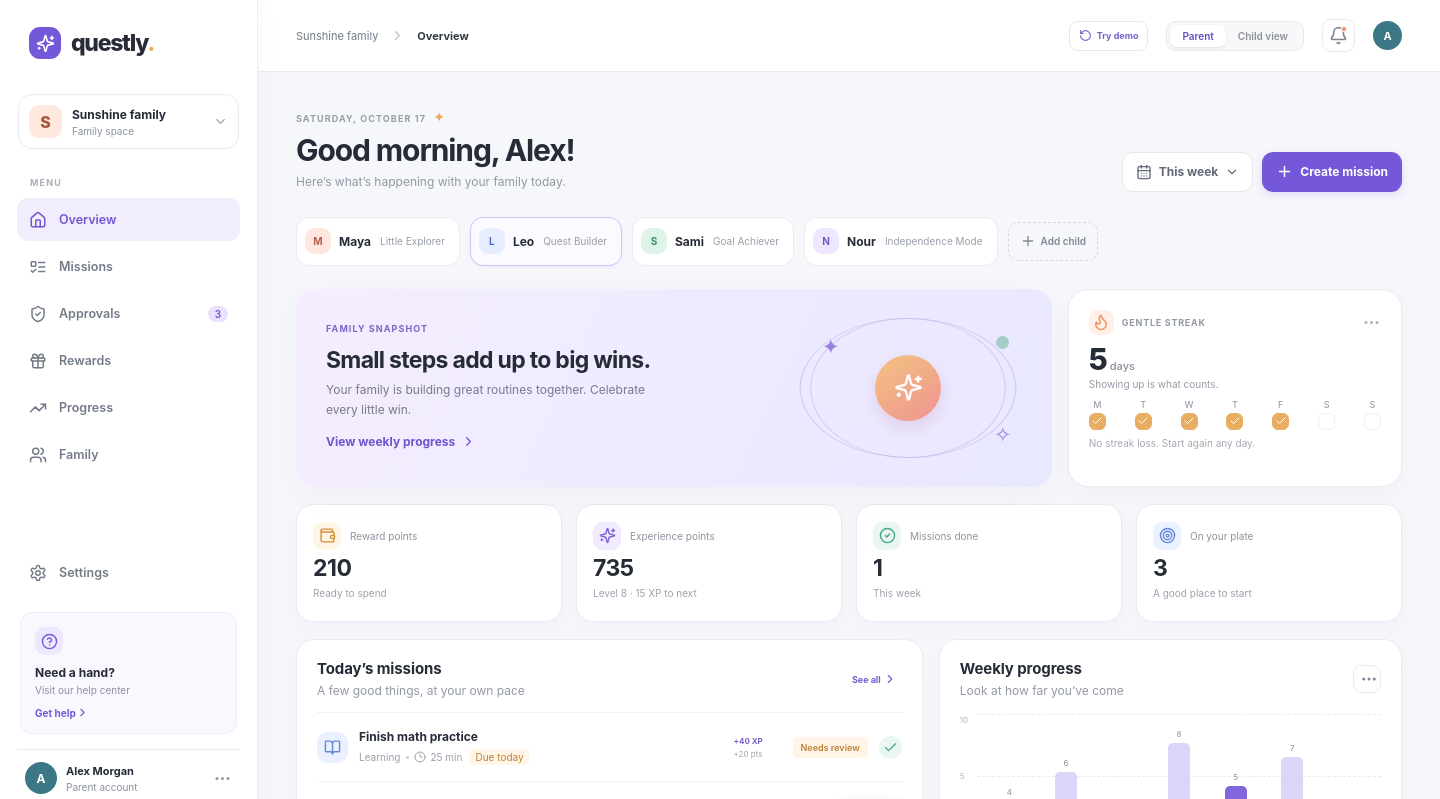
Test: Questly local demo › keeps points until a reward request is approved
This screenshot has width=1440, height=799.
Click the button with class "nav-item" showing "Rewards": (128, 360) x1=17 y1=339 x2=240 y2=382
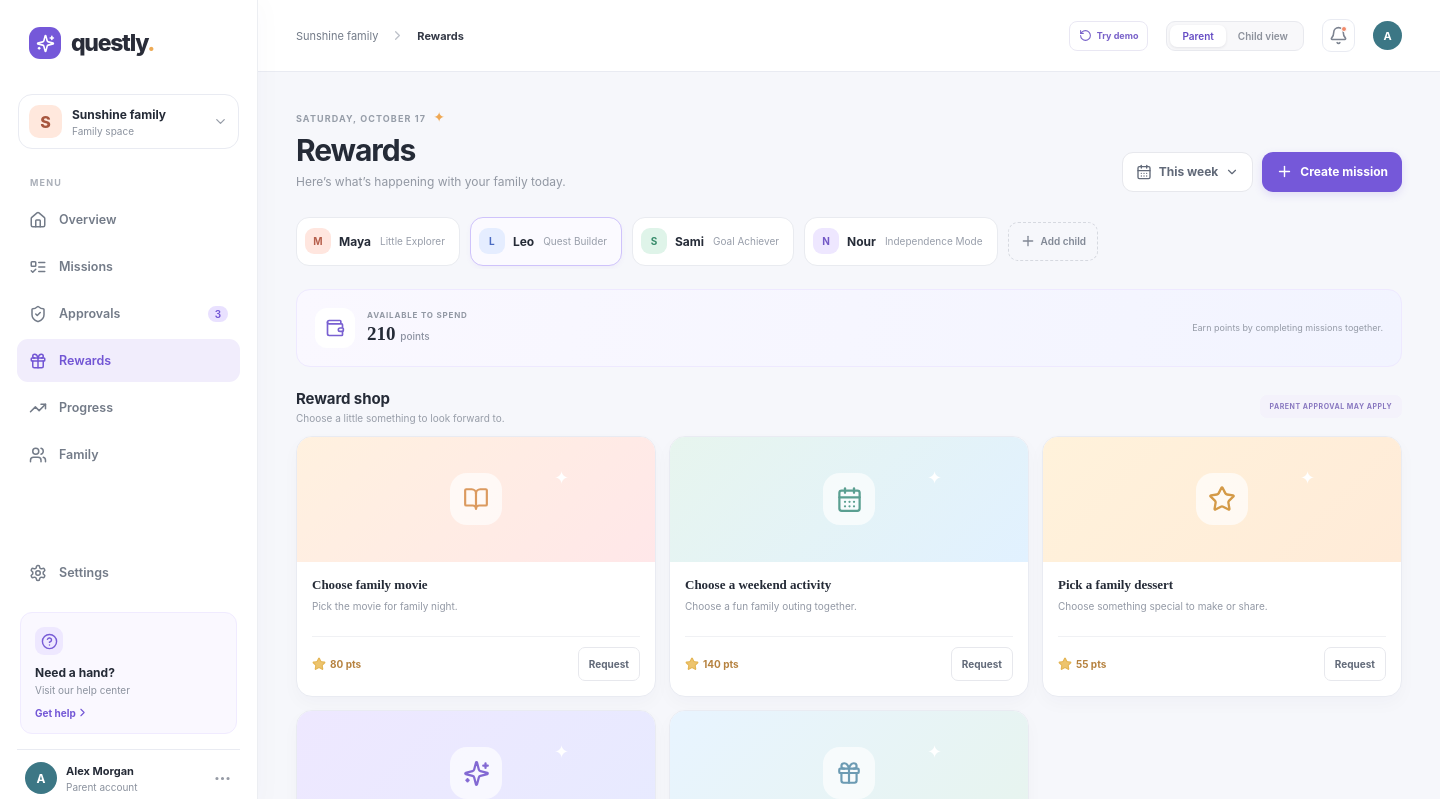
Click the button "Request" in the row of "80": (609, 664) x1=578 y1=647 x2=640 y2=681
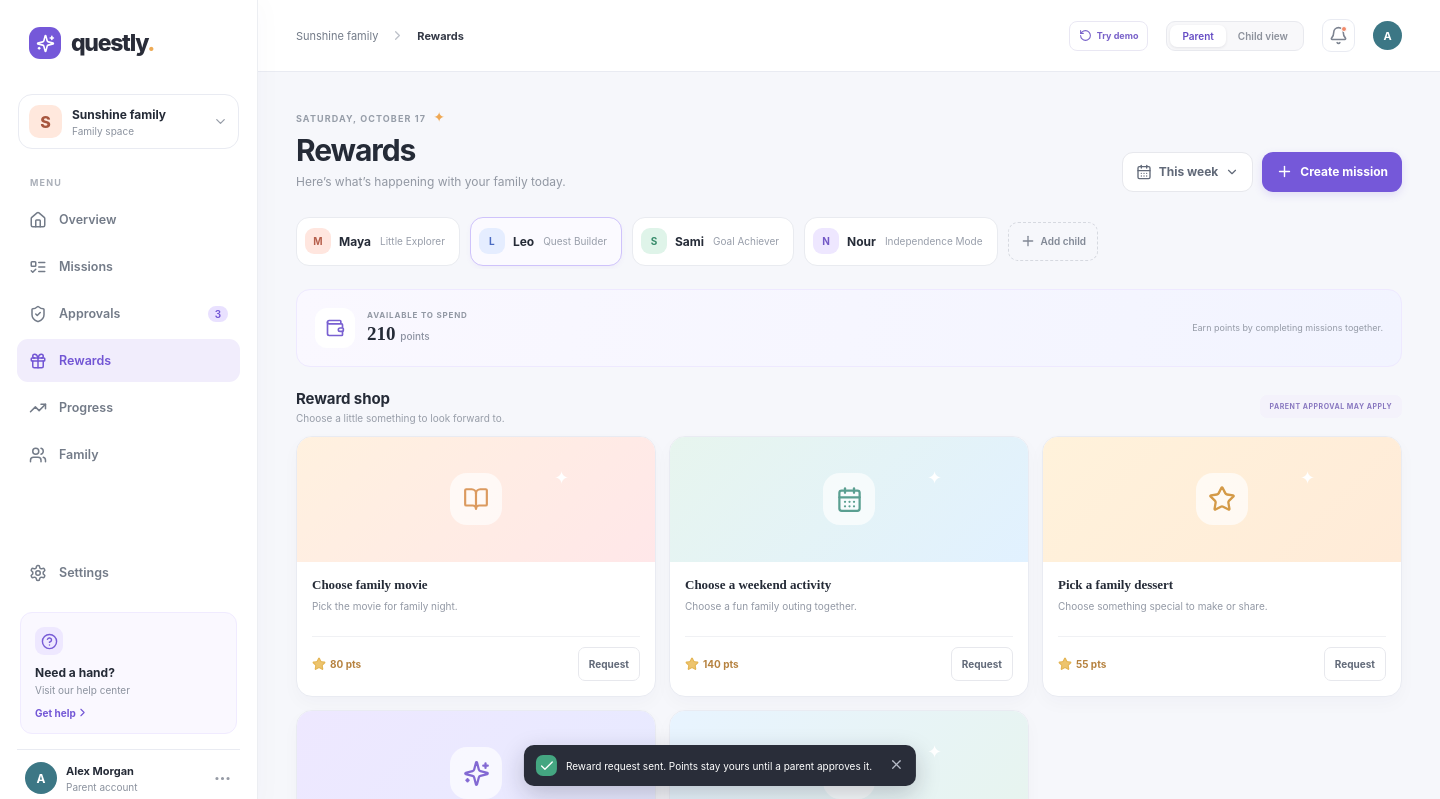
Expected: the text "210" is shown, x1=367 y1=323 x2=396 y2=344
Click the button with class "nav-item" showing "Approvals 3": (128, 314) x1=17 y1=292 x2=240 y2=335
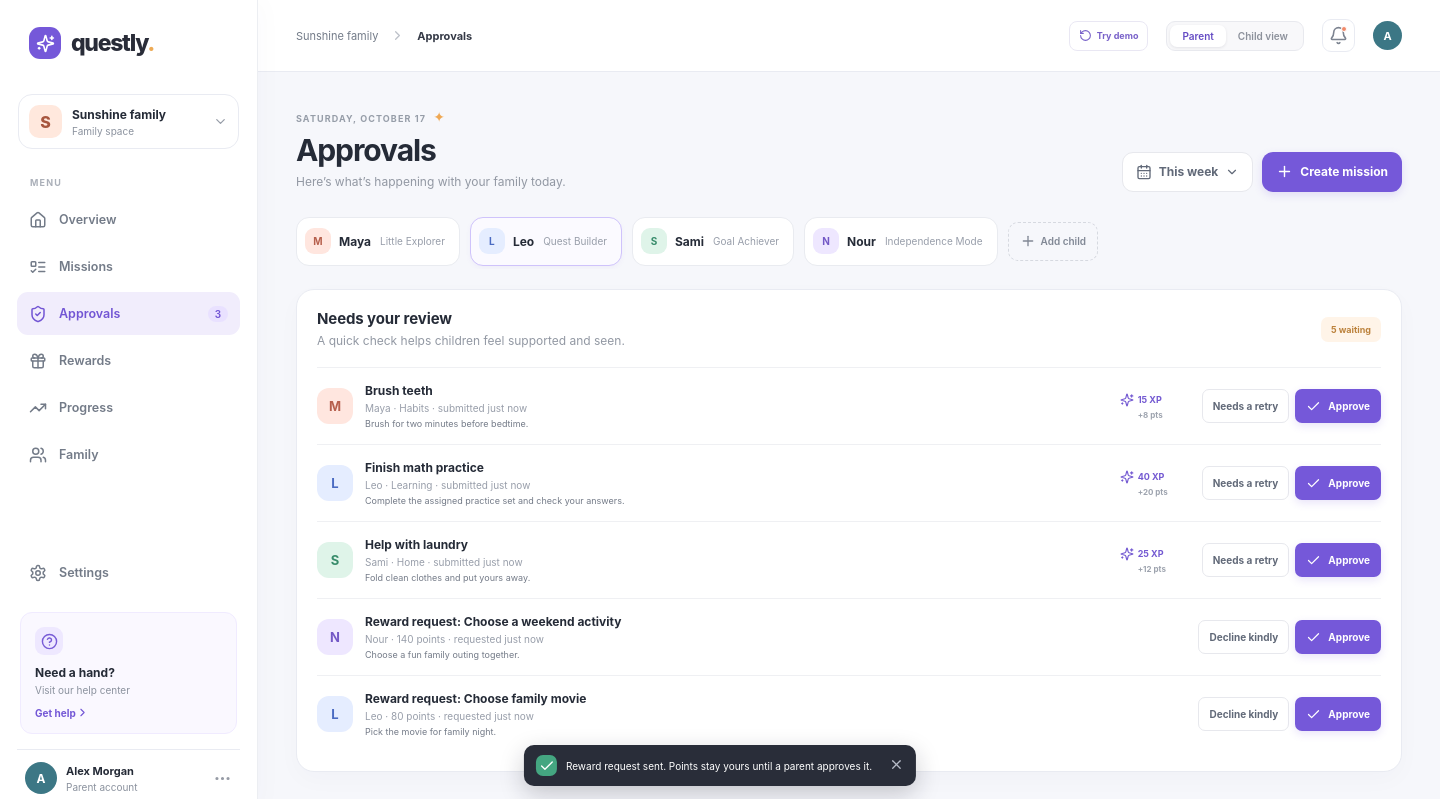
Click the button "Approve" in the row of "Choose family movie": (1338, 714) x1=1295 y1=697 x2=1381 y2=731
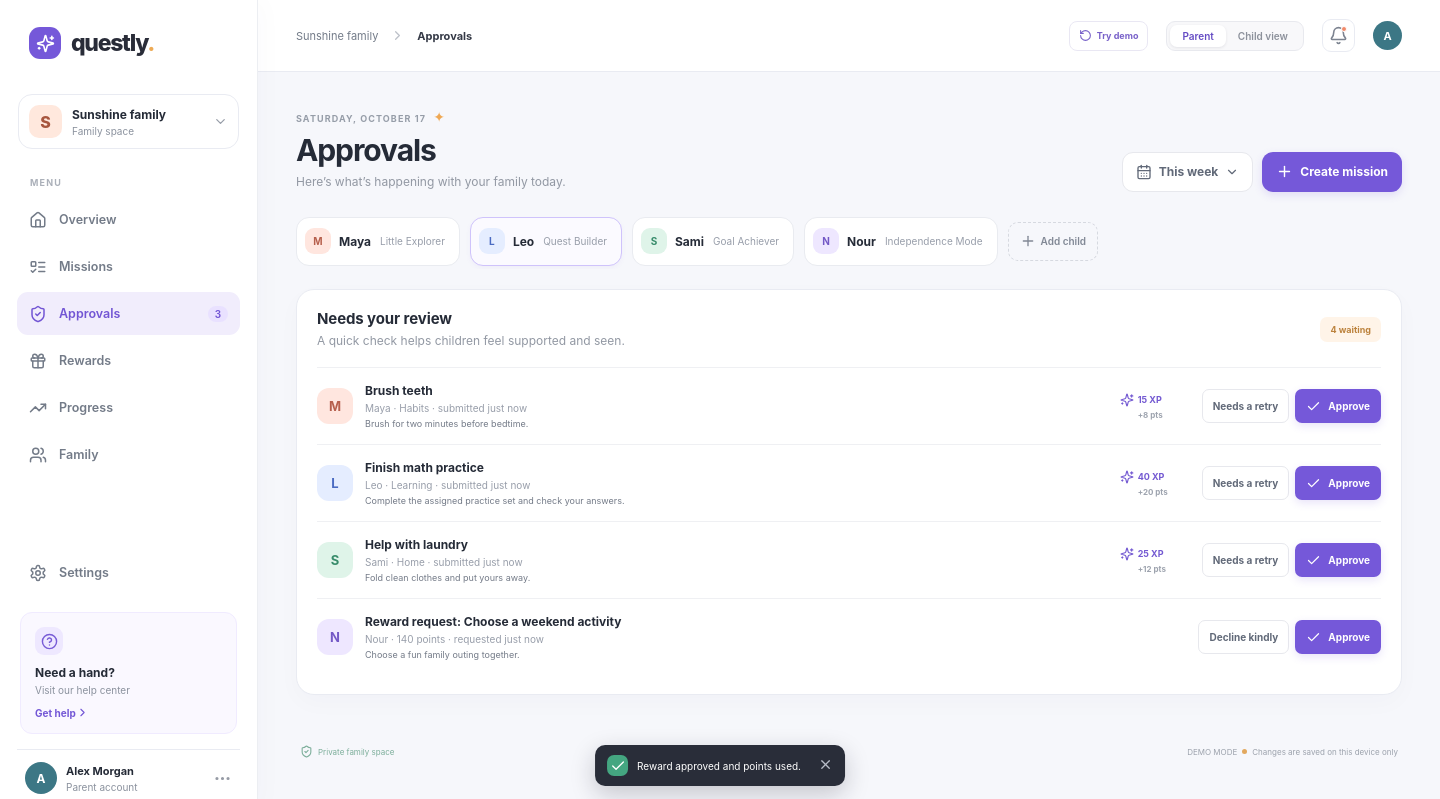
Click the button with class "nav-item" showing "Rewards": (128, 360) x1=17 y1=339 x2=240 y2=382
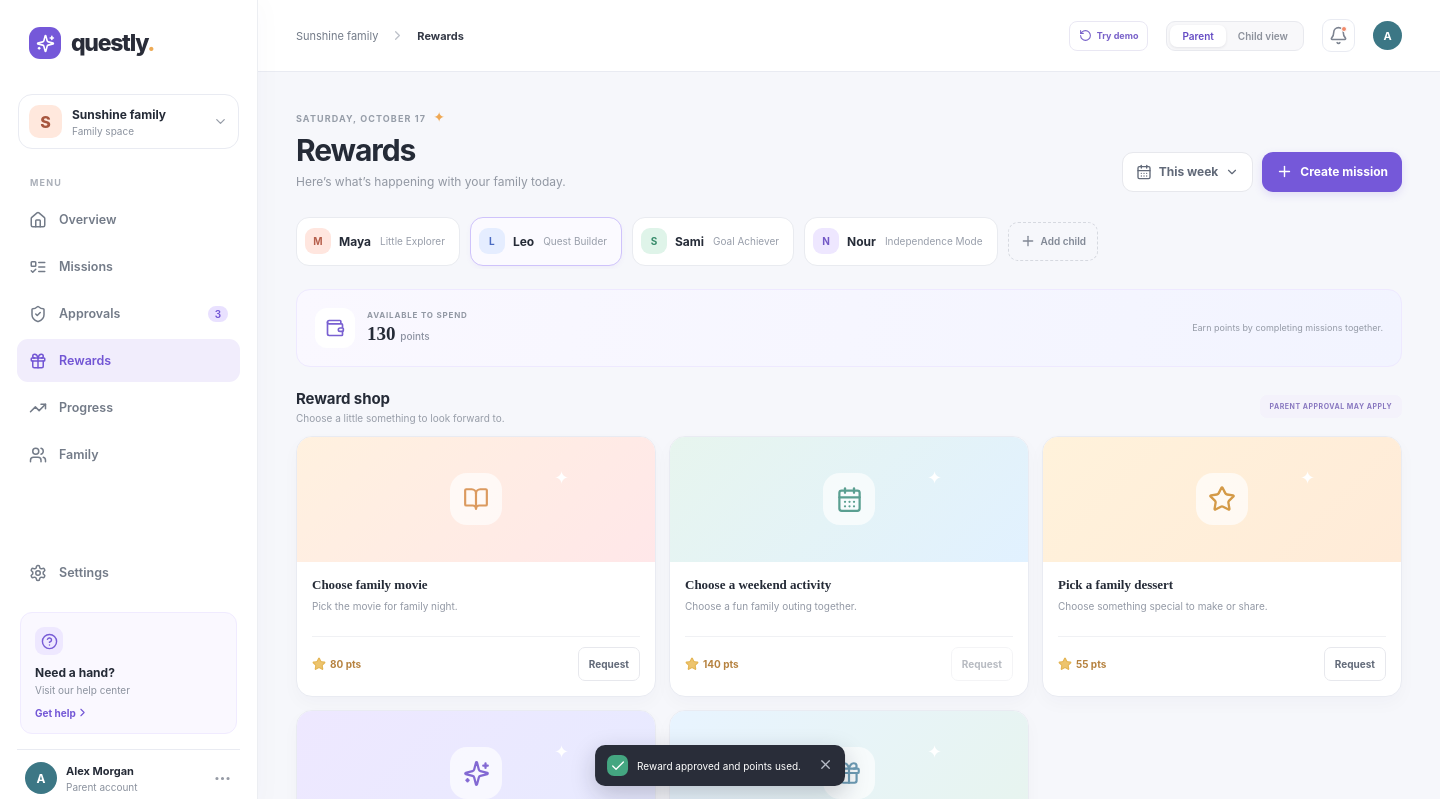
Expected: the text "130" is shown, x1=367 y1=323 x2=396 y2=344
